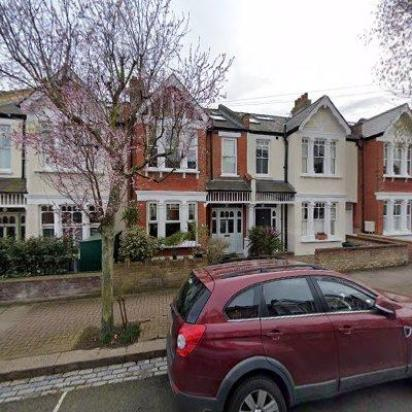stationary-car-onstreet: (164, 256, 410, 410)
